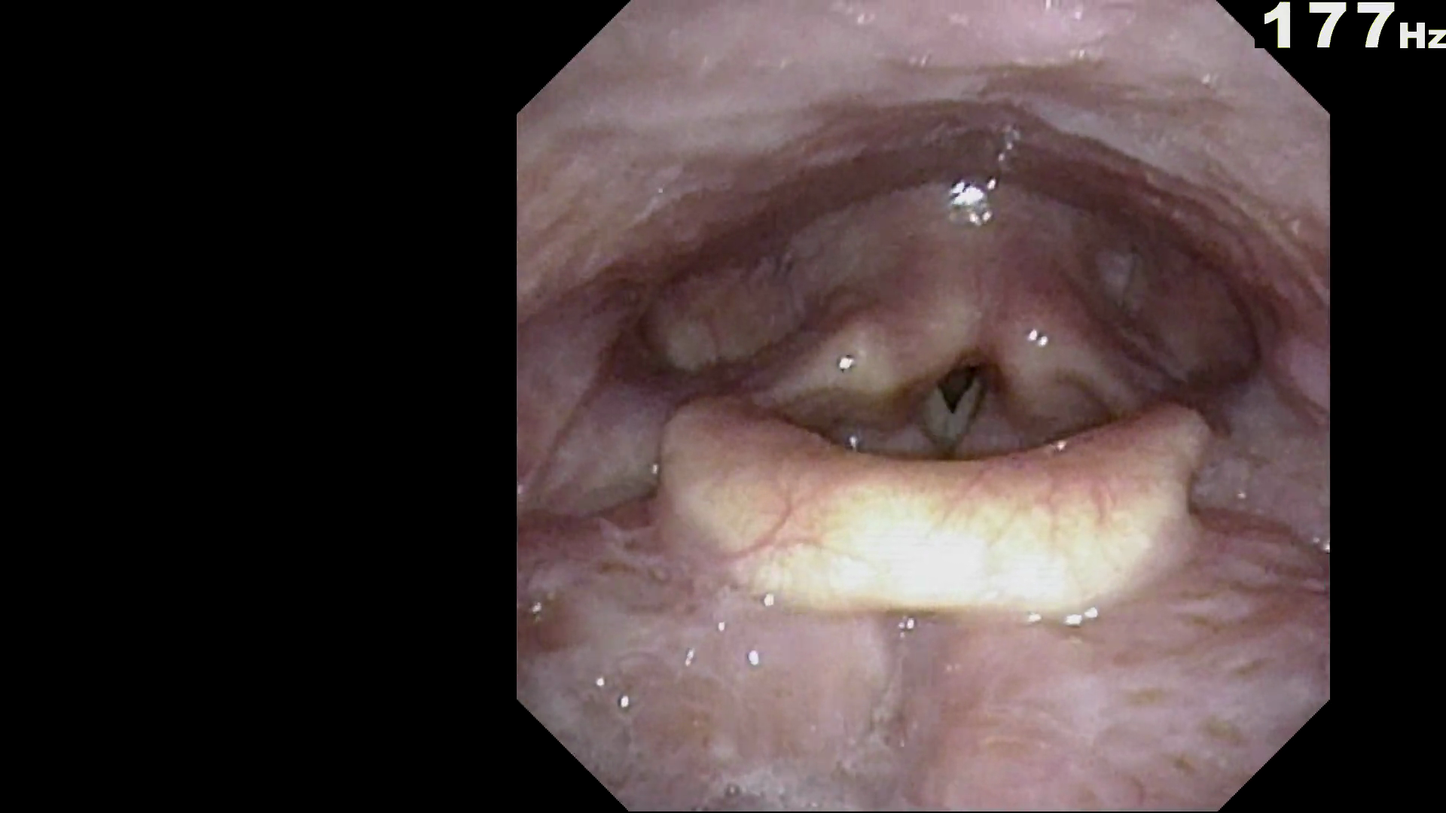epiglottis: (671, 413, 1199, 623)
trachea: (898, 314, 1022, 469)
